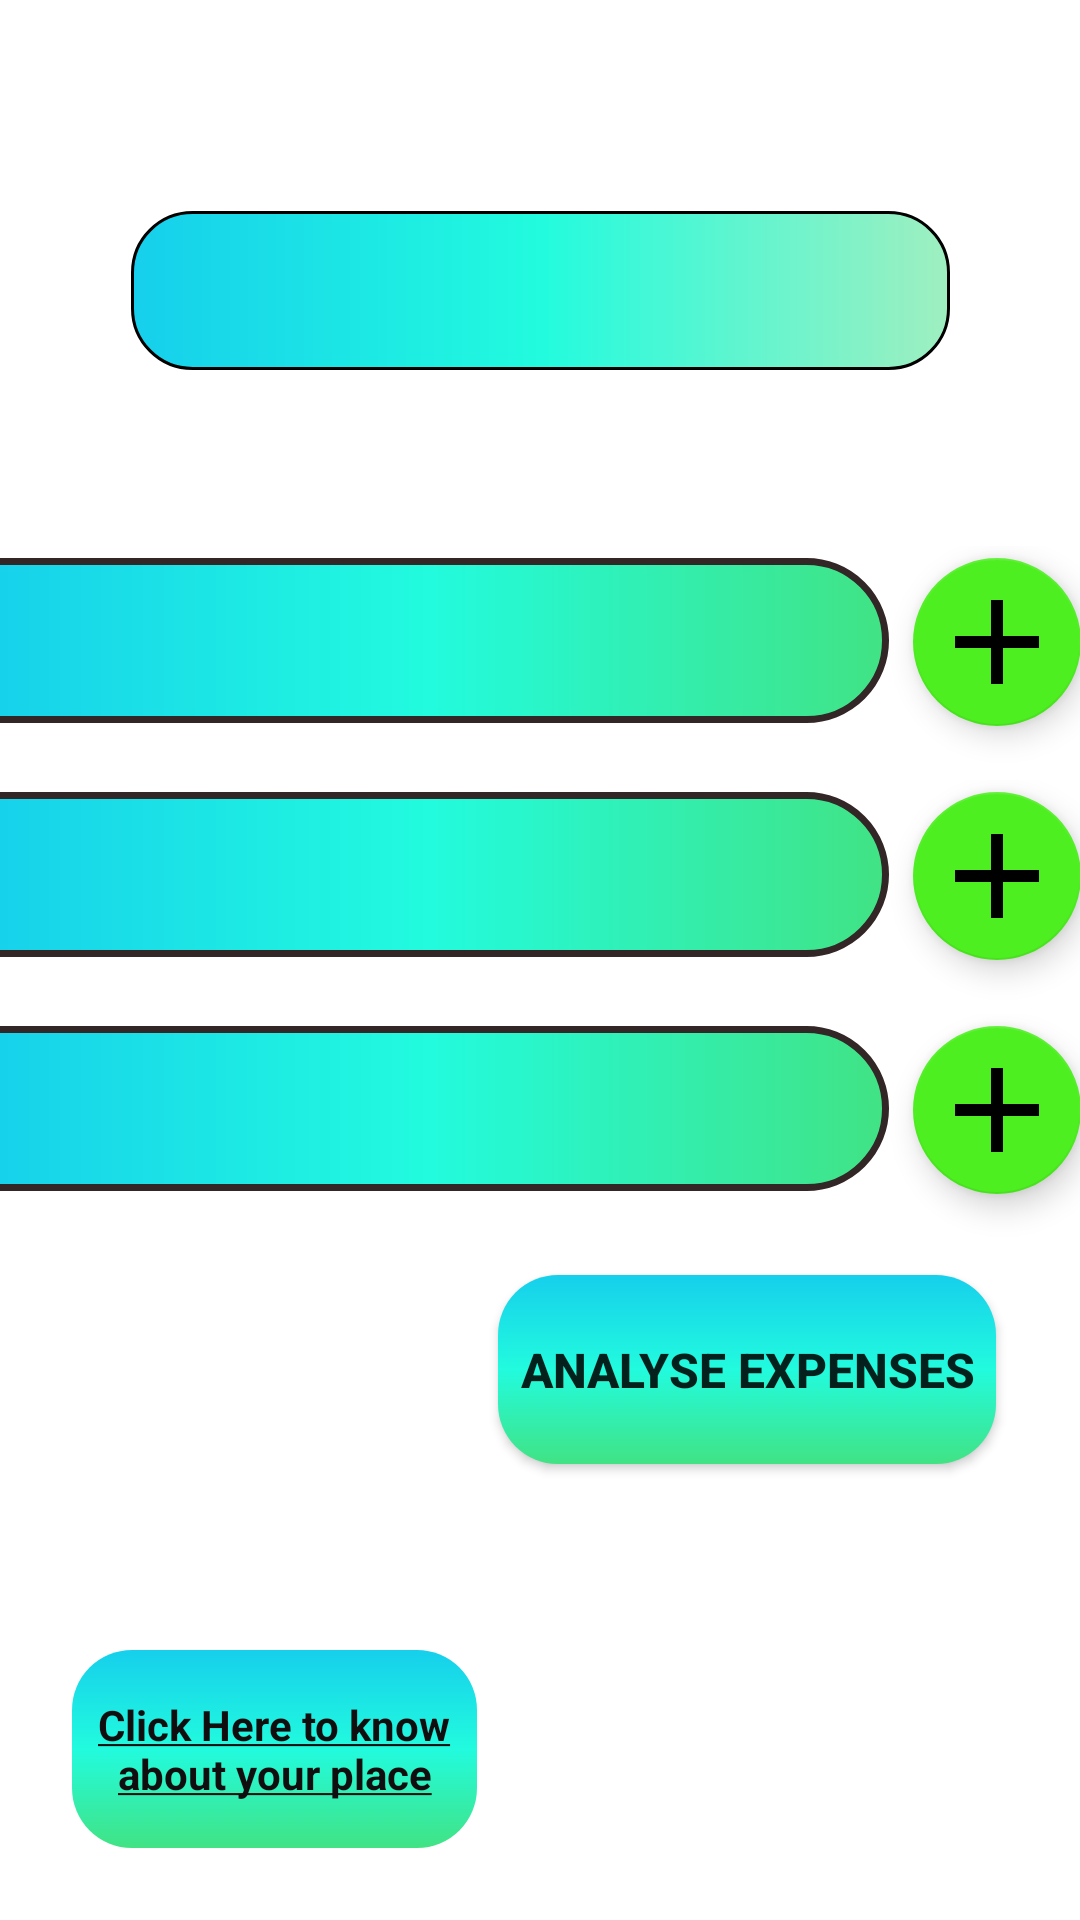

Screen size 1080 × 1920. Icon name, then its box in pixels as (x1, y1, x2, y2):
add: (913, 558, 1080, 726), (913, 792, 1080, 960), (913, 1026, 1080, 1194)
